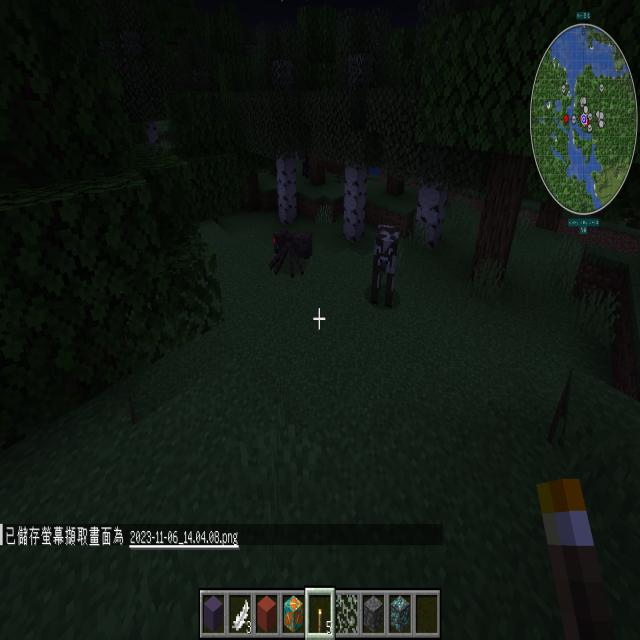Spider: (266, 218, 316, 286)
cow: (366, 211, 404, 322)
